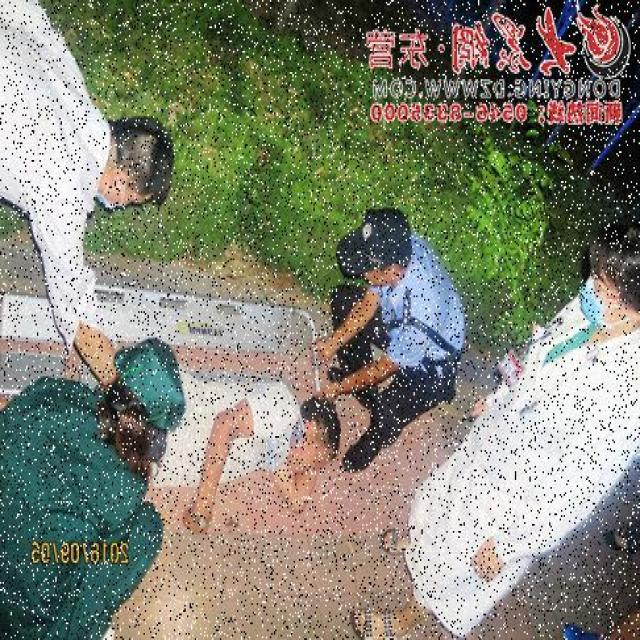fall: (153, 376, 337, 520)
